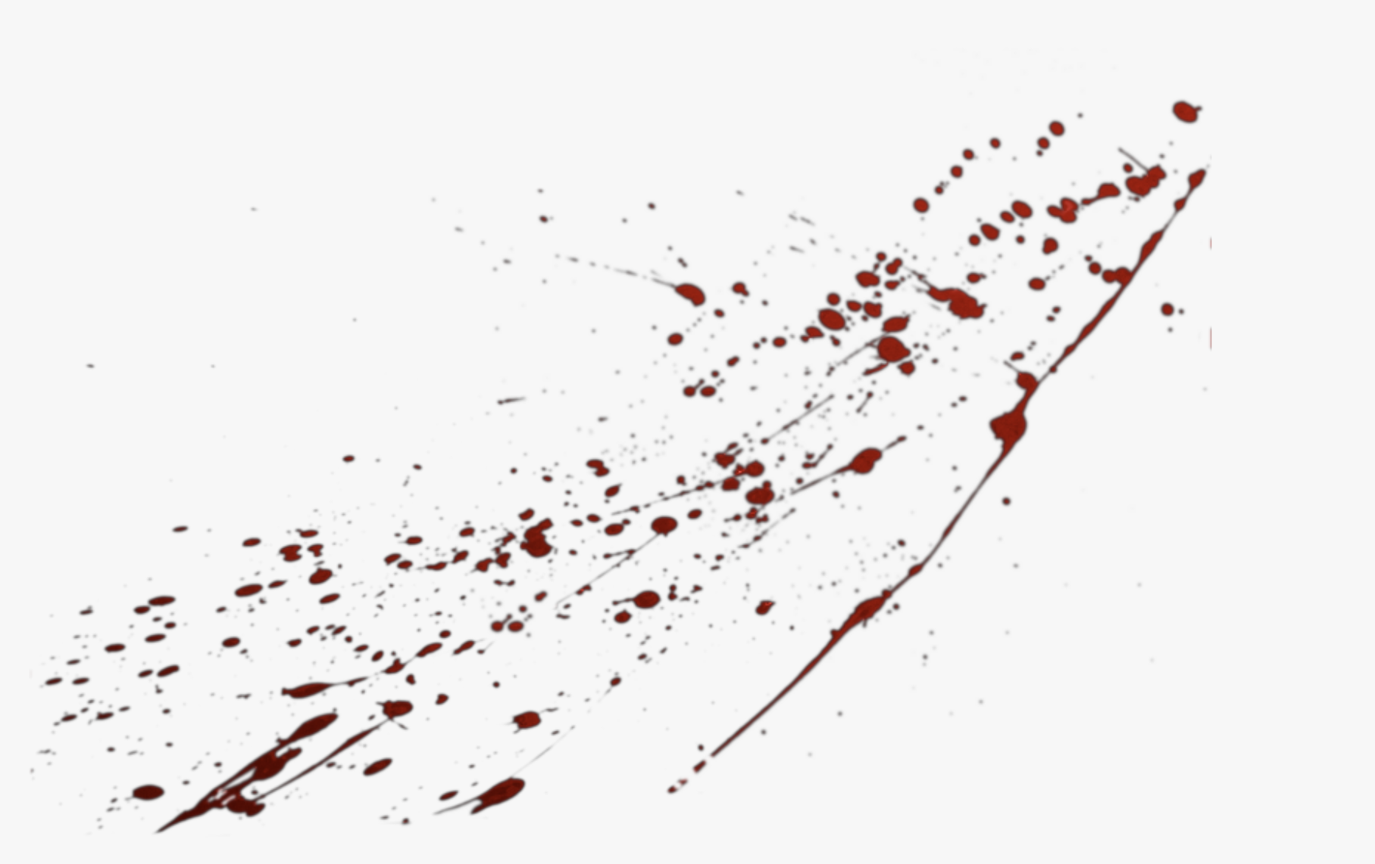blood_15.png: (32, 92, 1227, 837)
